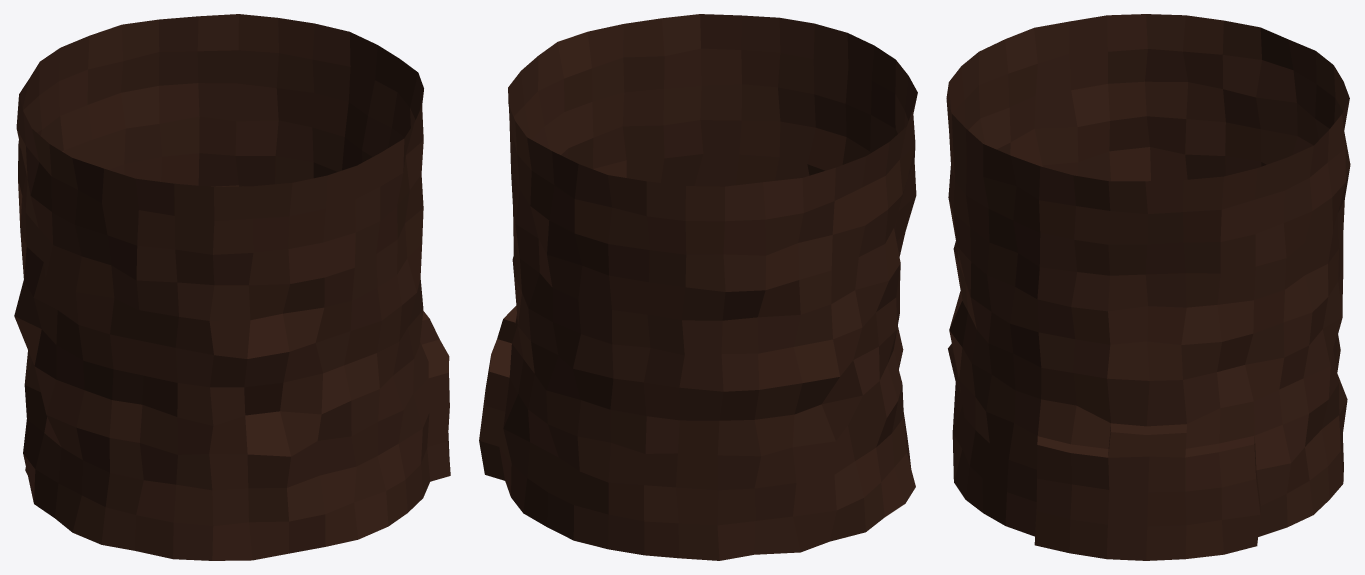
File: PitWalls.fbx
3 renders of one model, left to right at view 1: azimuth 30°, elevation 25°; view 2: azimuth 150°, elevation 25°; view 3: azimuth 270°, elevation 25°, orthographic. The views are drawn at different scales.
Visible parts, largest first — view 1: Cylinder; view 2: Cylinder; view 3: Cylinder.
Part boxes in pixels (x1,y1,x2,y2): Cylinder: (14, 14, 450, 560); Cylinder: (479, 14, 917, 560); Cylinder: (946, 14, 1350, 560).
Bounding box in the file's own units: 4206 × 3985 × 3968.
